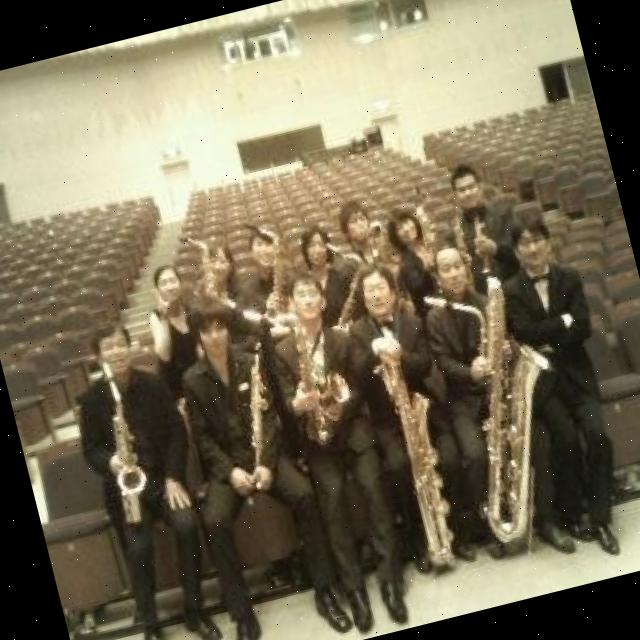saxophone: (88, 351, 166, 541), (272, 294, 364, 454), (224, 334, 298, 472), (241, 211, 292, 314), (316, 237, 376, 324), (178, 226, 230, 312), (360, 214, 394, 268)
